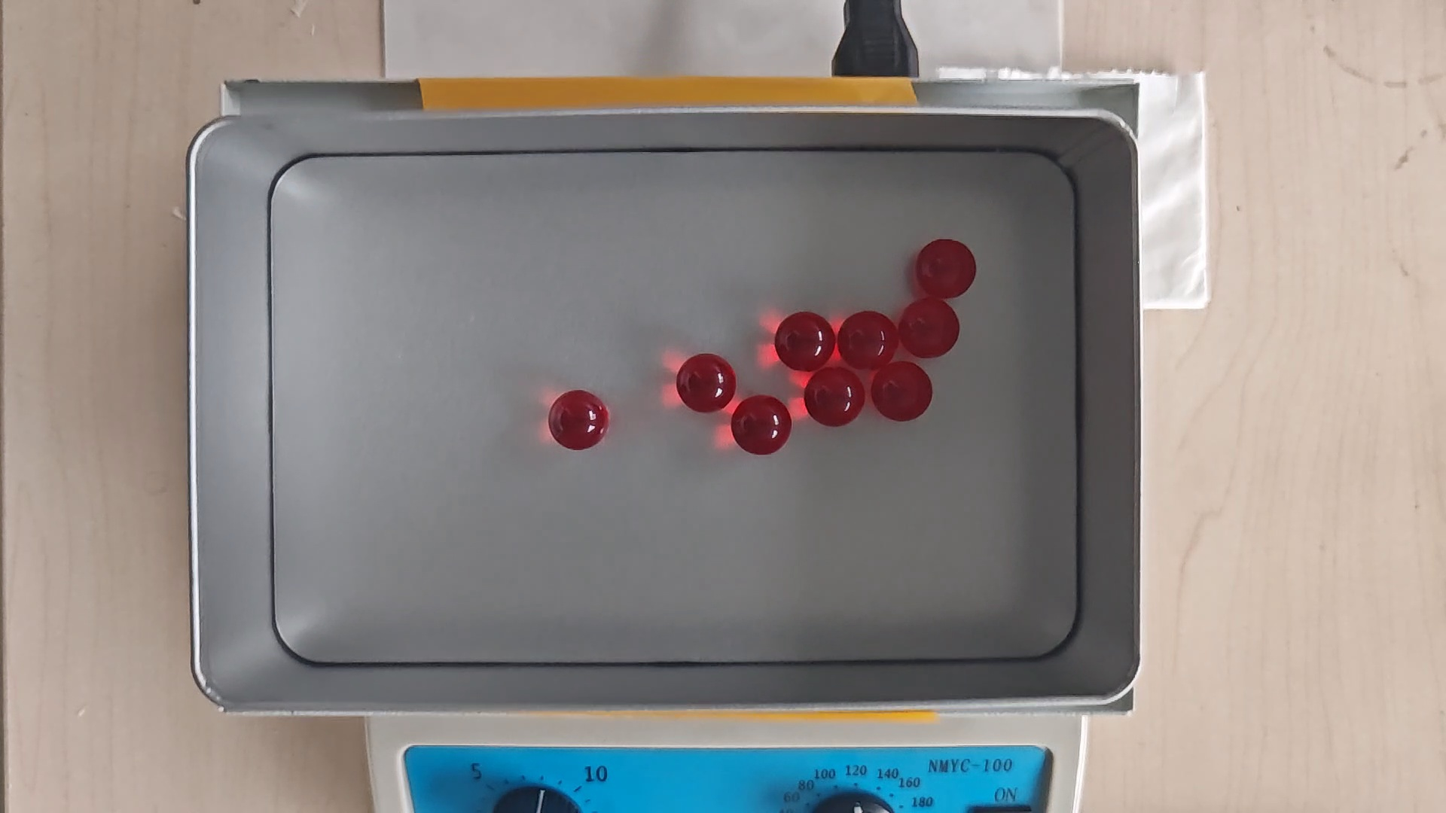ball: (549, 389, 611, 451), (872, 361, 934, 423), (805, 367, 866, 429), (899, 298, 960, 359), (732, 395, 792, 456), (917, 238, 977, 299), (677, 353, 736, 414), (774, 311, 833, 371), (838, 310, 898, 369)
container: (271, 149, 1078, 664)
